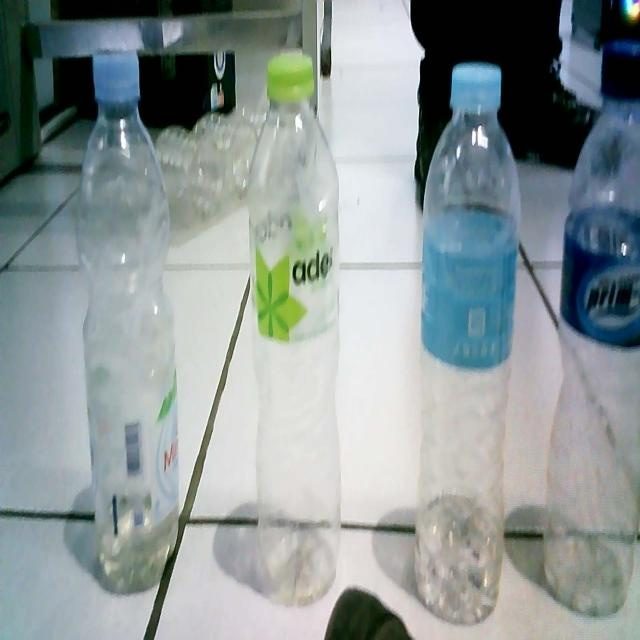botol: (46, 38, 202, 607), (227, 36, 372, 629), (396, 41, 539, 640), (546, 33, 640, 640)
